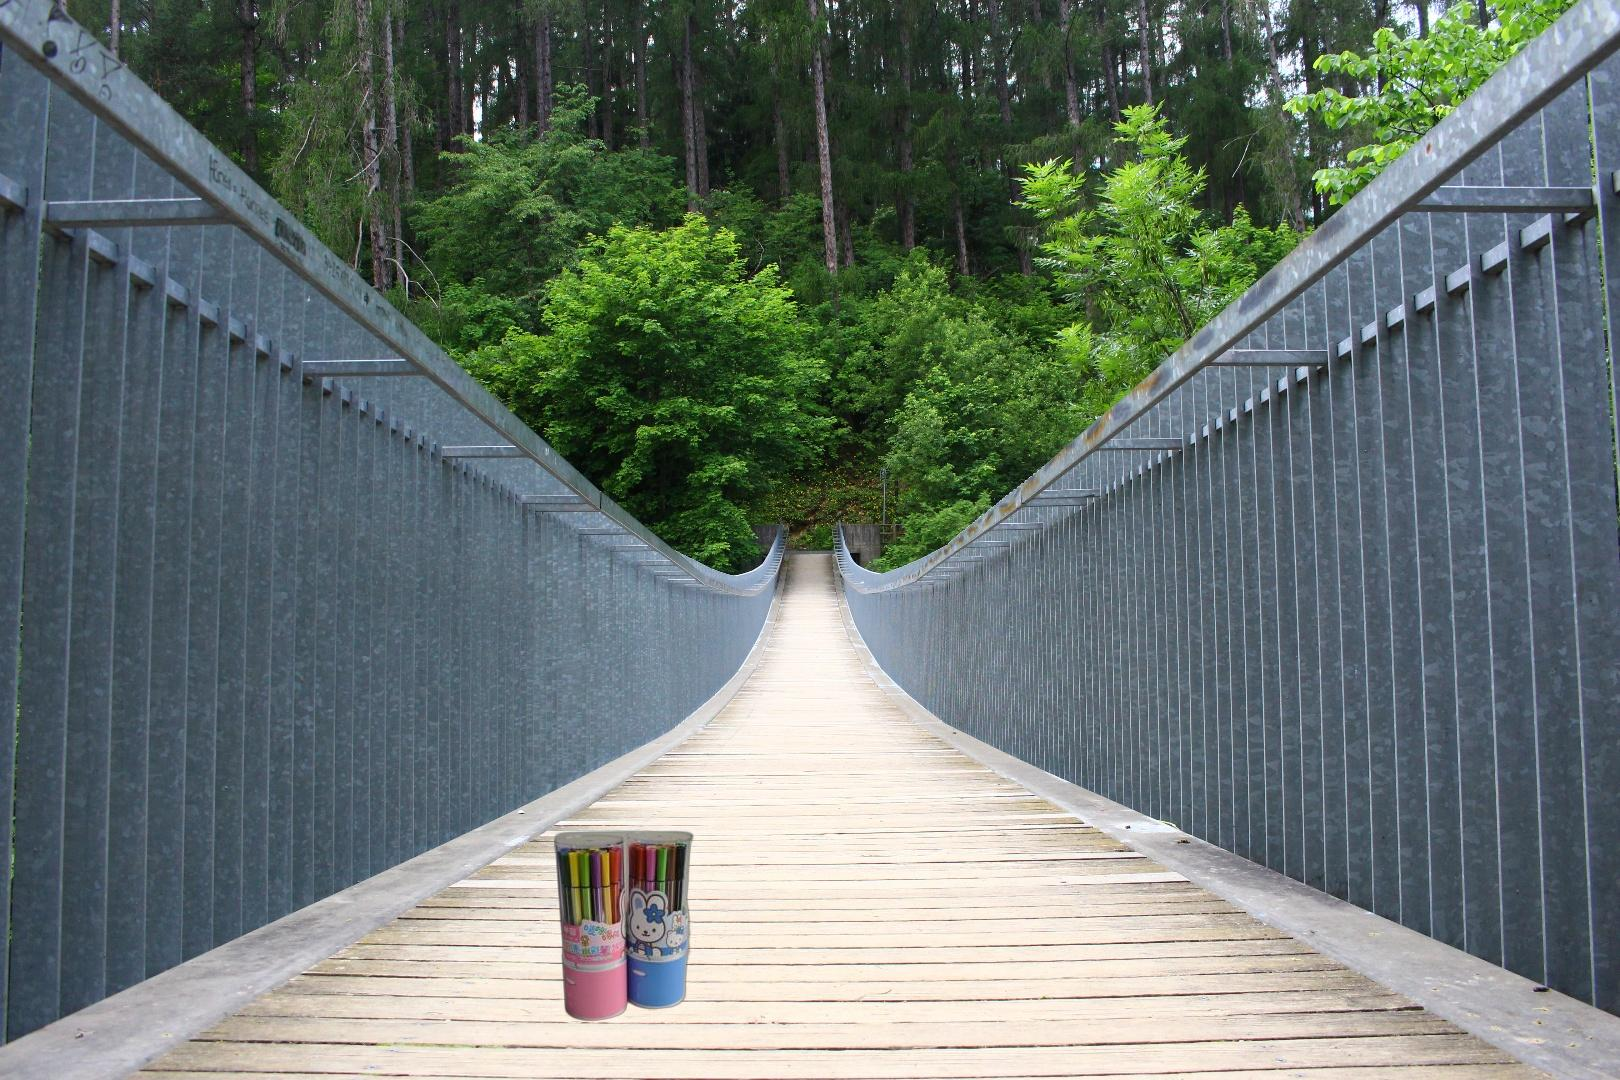penholder: (552, 828, 695, 1023)
